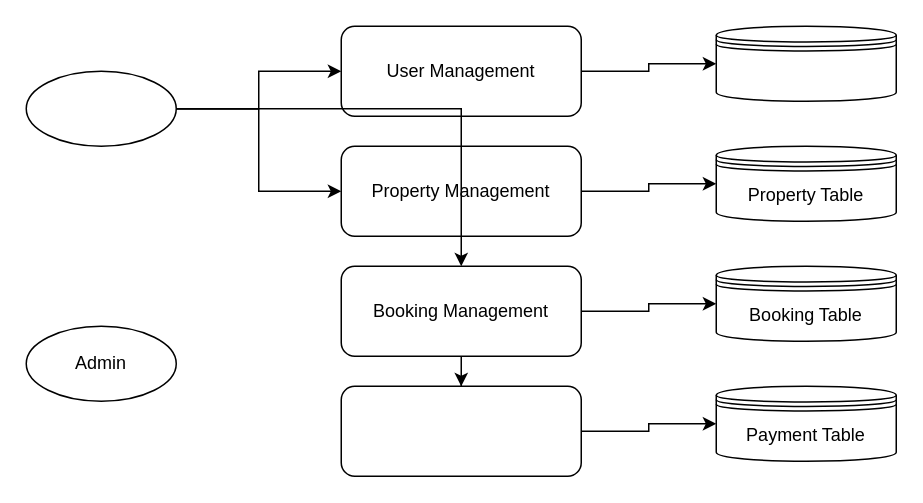
The diagram is 923 pixels wide and 503 high, and some of its shapes have lost their labels. The centre of each missing label's shape, as x and y in pixels:
"Payment Processing" goes at point 460,430.
"User" goes at point 100,108.
"User Table" goes at point 805,63.
